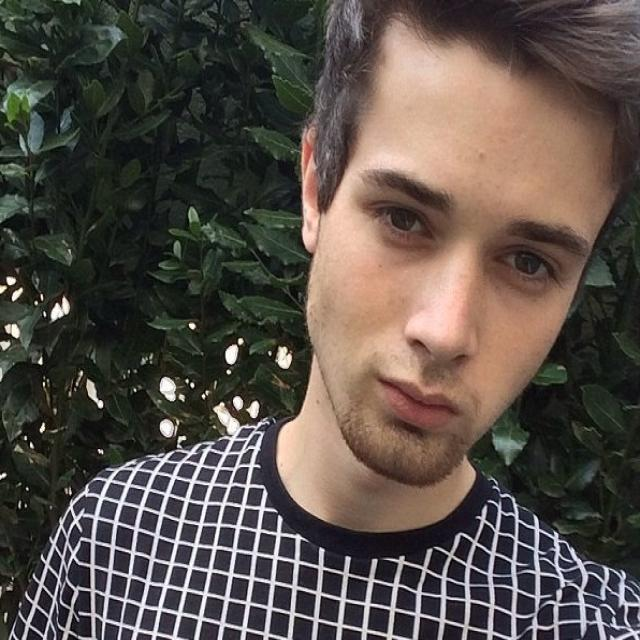earlobe: (300, 211, 322, 254)
eye: (370, 202, 440, 242), (493, 245, 561, 283)
nose: (406, 343, 471, 384)
wholeear: (299, 124, 326, 254)
